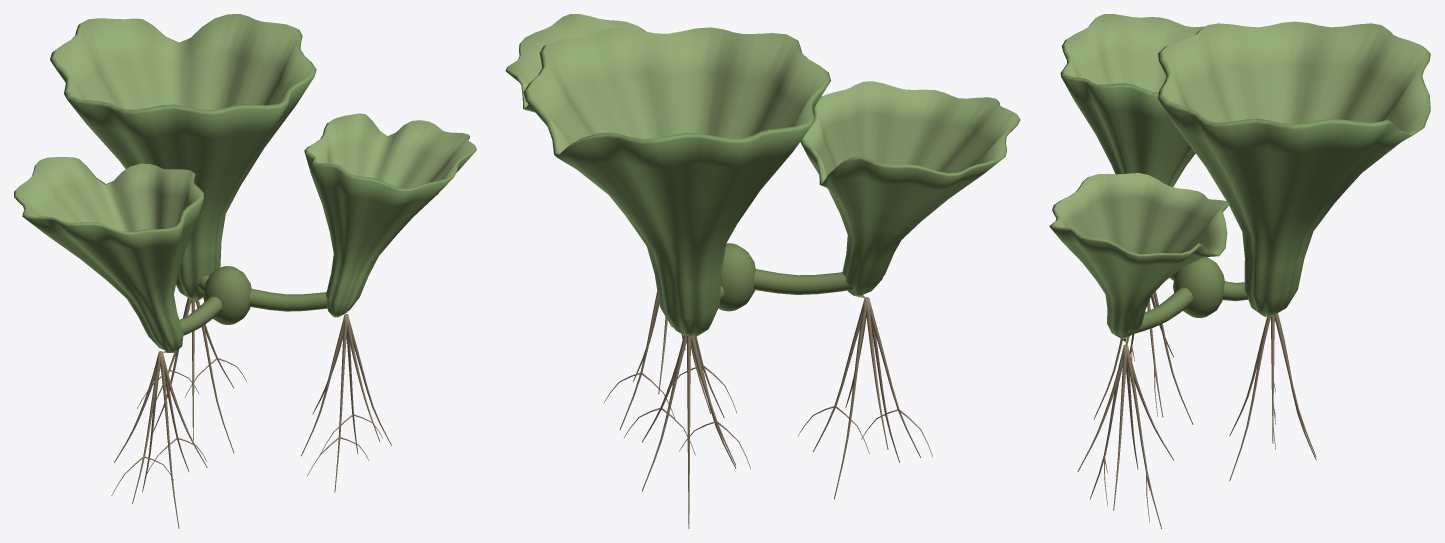
File: cobbania.glb
The picture shows the model from 3 angles, left to right: view 1: azimuth 30°, elevation 25°; view 2: azimuth 150°, elevation 25°; view 3: azimuth 270°, elevation 25°; orthographic projection. The views are drawn at different scales.
Parts seen in each view (by area): view 1: three-radially-folded-trumpet-leaves-with-basal-pouches, freshwater-hanging-root-fan, short-common-floating-axis; view 2: three-radially-folded-trumpet-leaves-with-basal-pouches, freshwater-hanging-root-fan, short-common-floating-axis; view 3: three-radially-folded-trumpet-leaves-with-basal-pouches, freshwater-hanging-root-fan, short-common-floating-axis.
Boxes of the visible parts, x1,y1,x2,y2 form: three-radially-folded-trumpet-leaves-with-basal-pouches: [14, 14, 476, 352]; freshwater-hanging-root-fan: [111, 298, 391, 528]; short-common-floating-axis: [179, 266, 327, 335]; three-radially-folded-trumpet-leaves-with-basal-pouches: [505, 14, 1020, 337]; freshwater-hanging-root-fan: [604, 291, 932, 528]; short-common-floating-axis: [718, 243, 852, 311]; three-radially-folded-trumpet-leaves-with-basal-pouches: [1049, 14, 1430, 342]; freshwater-hanging-root-fan: [1077, 291, 1316, 528]; short-common-floating-axis: [1126, 257, 1247, 335].
Bounding box in the file's own units: 0.1798 × 0.1518 × 0.1298.
